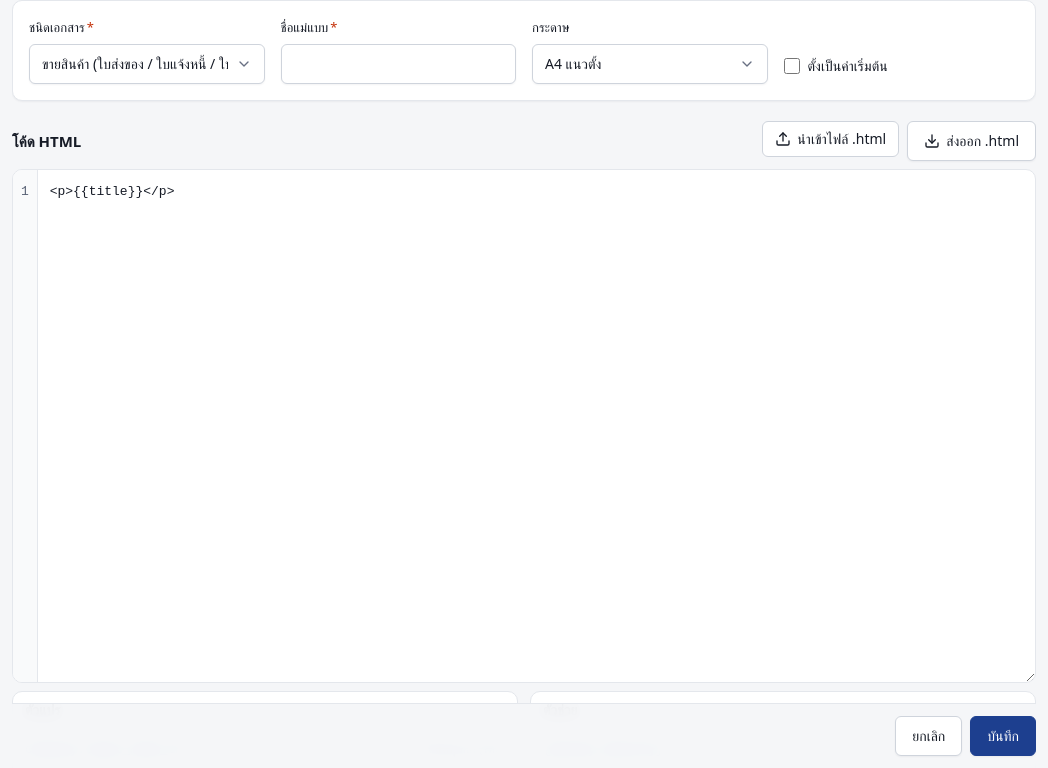
it: หน้าแก้แม่แบบ › ไม่มีชื่อ = ไม่ส่ง และแจ้งที่ช่อง
Click the button "บันทึก" at (1003, 736), box left=970, top=716, right=1036, bottom=756
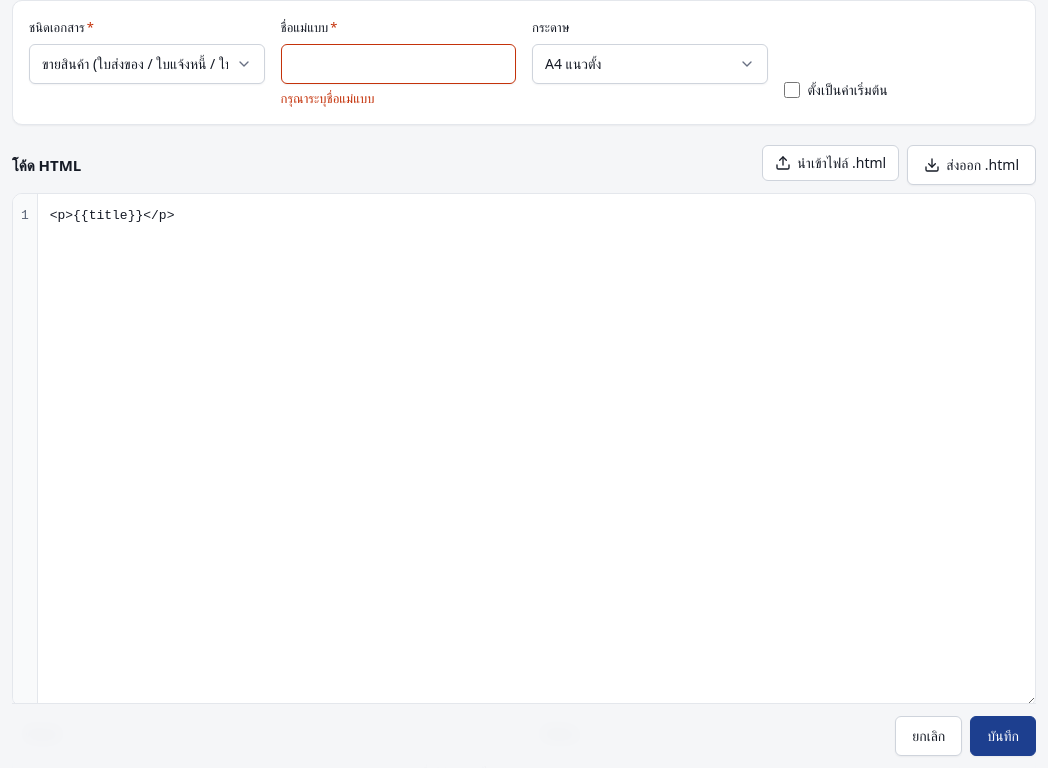
expect the text "กรุณาระบุชื่อแม่แบบ" is shown: met, box left=280, top=89, right=374, bottom=107
